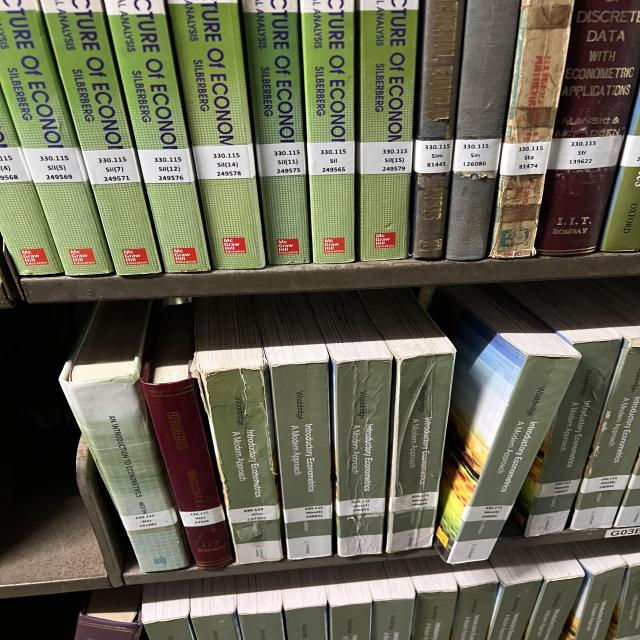Book: (433, 286, 580, 564), (60, 300, 190, 571), (47, 0, 162, 275), (508, 282, 622, 536), (107, 0, 210, 272), (535, 0, 640, 256), (167, 0, 265, 269), (360, 289, 455, 552), (140, 305, 233, 569), (197, 298, 282, 564), (310, 291, 393, 556), (490, 0, 573, 259), (445, 0, 520, 261), (260, 295, 333, 559), (242, 0, 310, 265), (357, 0, 418, 261), (300, 0, 355, 264), (570, 325, 640, 530), (412, 0, 465, 260), (0, 90, 63, 275), (560, 540, 627, 640), (600, 91, 640, 251), (523, 544, 585, 640), (487, 548, 543, 640), (405, 556, 458, 640), (363, 560, 415, 640), (450, 561, 498, 640), (75, 585, 143, 640), (323, 565, 372, 640), (607, 536, 640, 640), (280, 569, 328, 640), (190, 576, 242, 640), (140, 580, 195, 640), (237, 572, 285, 640)
Label: (548, 135, 623, 170), (193, 144, 255, 180), (23, 148, 87, 182), (82, 149, 140, 185), (138, 149, 195, 184), (358, 141, 413, 175), (500, 141, 550, 176), (257, 142, 307, 176), (307, 141, 355, 175), (453, 139, 502, 172), (413, 140, 453, 174), (120, 508, 178, 531), (388, 491, 438, 512), (0, 148, 30, 182), (227, 505, 280, 524), (580, 475, 630, 494), (283, 505, 332, 524), (180, 506, 225, 526), (335, 498, 385, 516), (533, 479, 580, 498), (462, 505, 512, 521), (620, 135, 640, 168), (627, 474, 640, 489)
